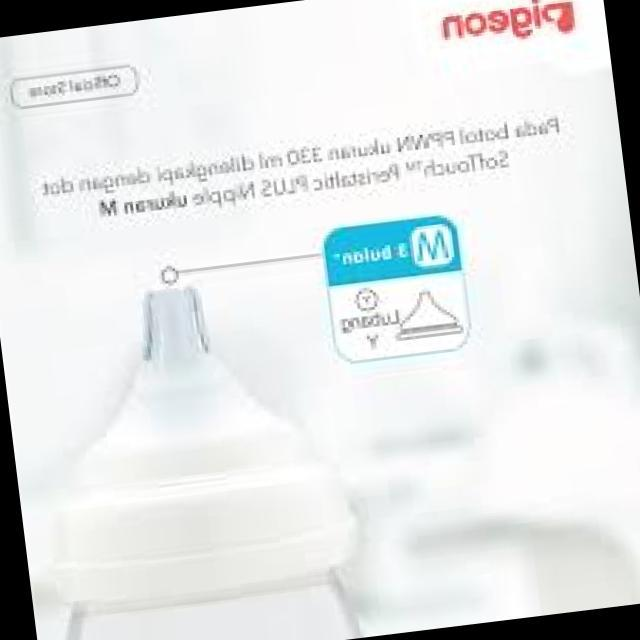good: (16, 257, 346, 628)
